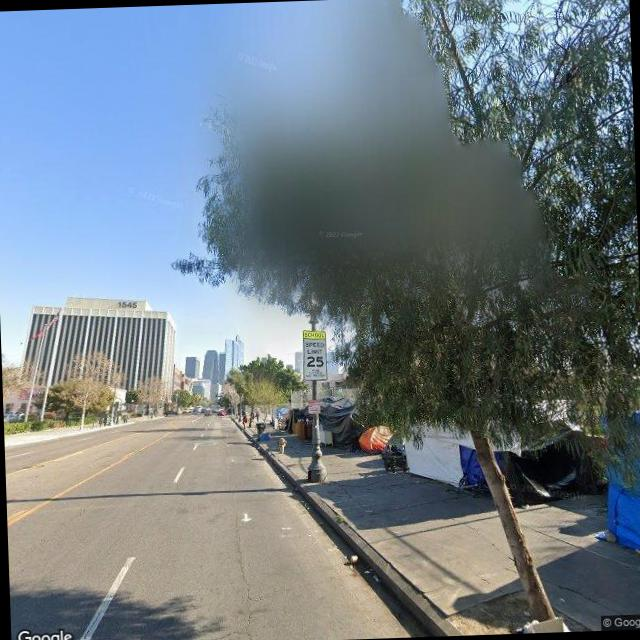pothole: (227, 500, 256, 640)
